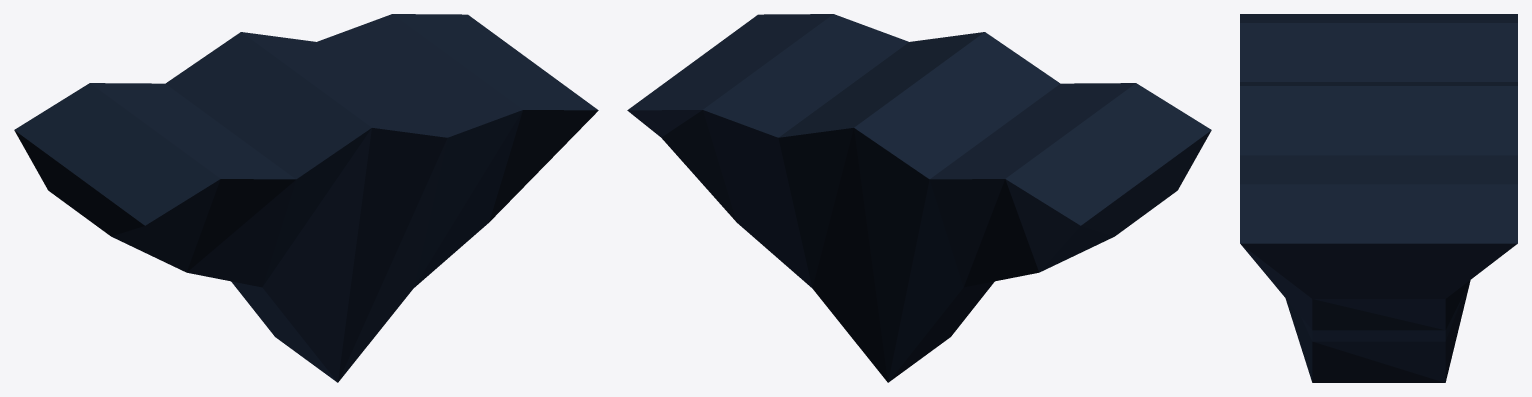
File: background_island.obj
3 views of the same model, side by side, from view 1: azimuth 30°, elevation 25°; view 2: azimuth 150°, elevation 25°; view 3: azimuth 270°, elevation 25° (orthographic). The views are drawn at different scales.
Parts seen in each view (by area): view 1: background_island_M0, background_island_M2, background_island_M1; view 2: background_island_M0, background_island_M2, background_island_M1; view 3: background_island_M0, background_island_M1, background_island_M2.
Part boxes in pixels (left/top/right/bottom): background_island_M0: left=14, top=14, right=598, bottom=225; background_island_M2: left=111, top=110, right=522, bottom=382; background_island_M1: left=14, top=110, right=598, bottom=381; background_island_M0: left=627, top=14, right=1211, bottom=225; background_island_M2: left=627, top=110, right=1114, bottom=382; background_island_M1: left=661, top=110, right=1211, bottom=382; background_island_M0: left=1240, top=14, right=1517, bottom=243; background_island_M1: left=1240, top=243, right=1517, bottom=382; background_island_M2: left=1241, top=244, right=1464, bottom=382.
Bounding box in the file's own units: 2 × 1.18 × 1.
